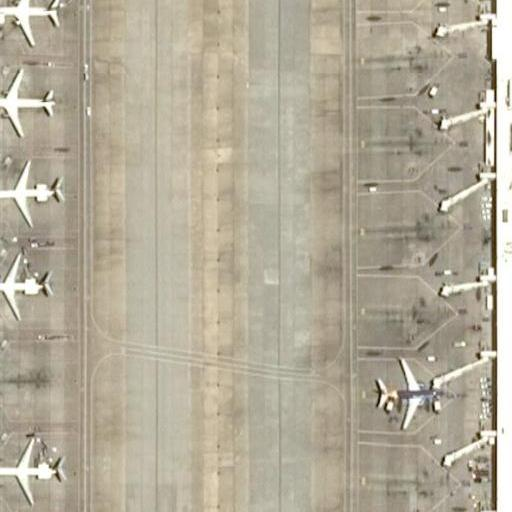Aircraft: (369, 350, 463, 433), (0, 425, 66, 512), (0, 153, 65, 228), (0, 241, 58, 325), (0, 64, 58, 143), (0, 0, 63, 52)
